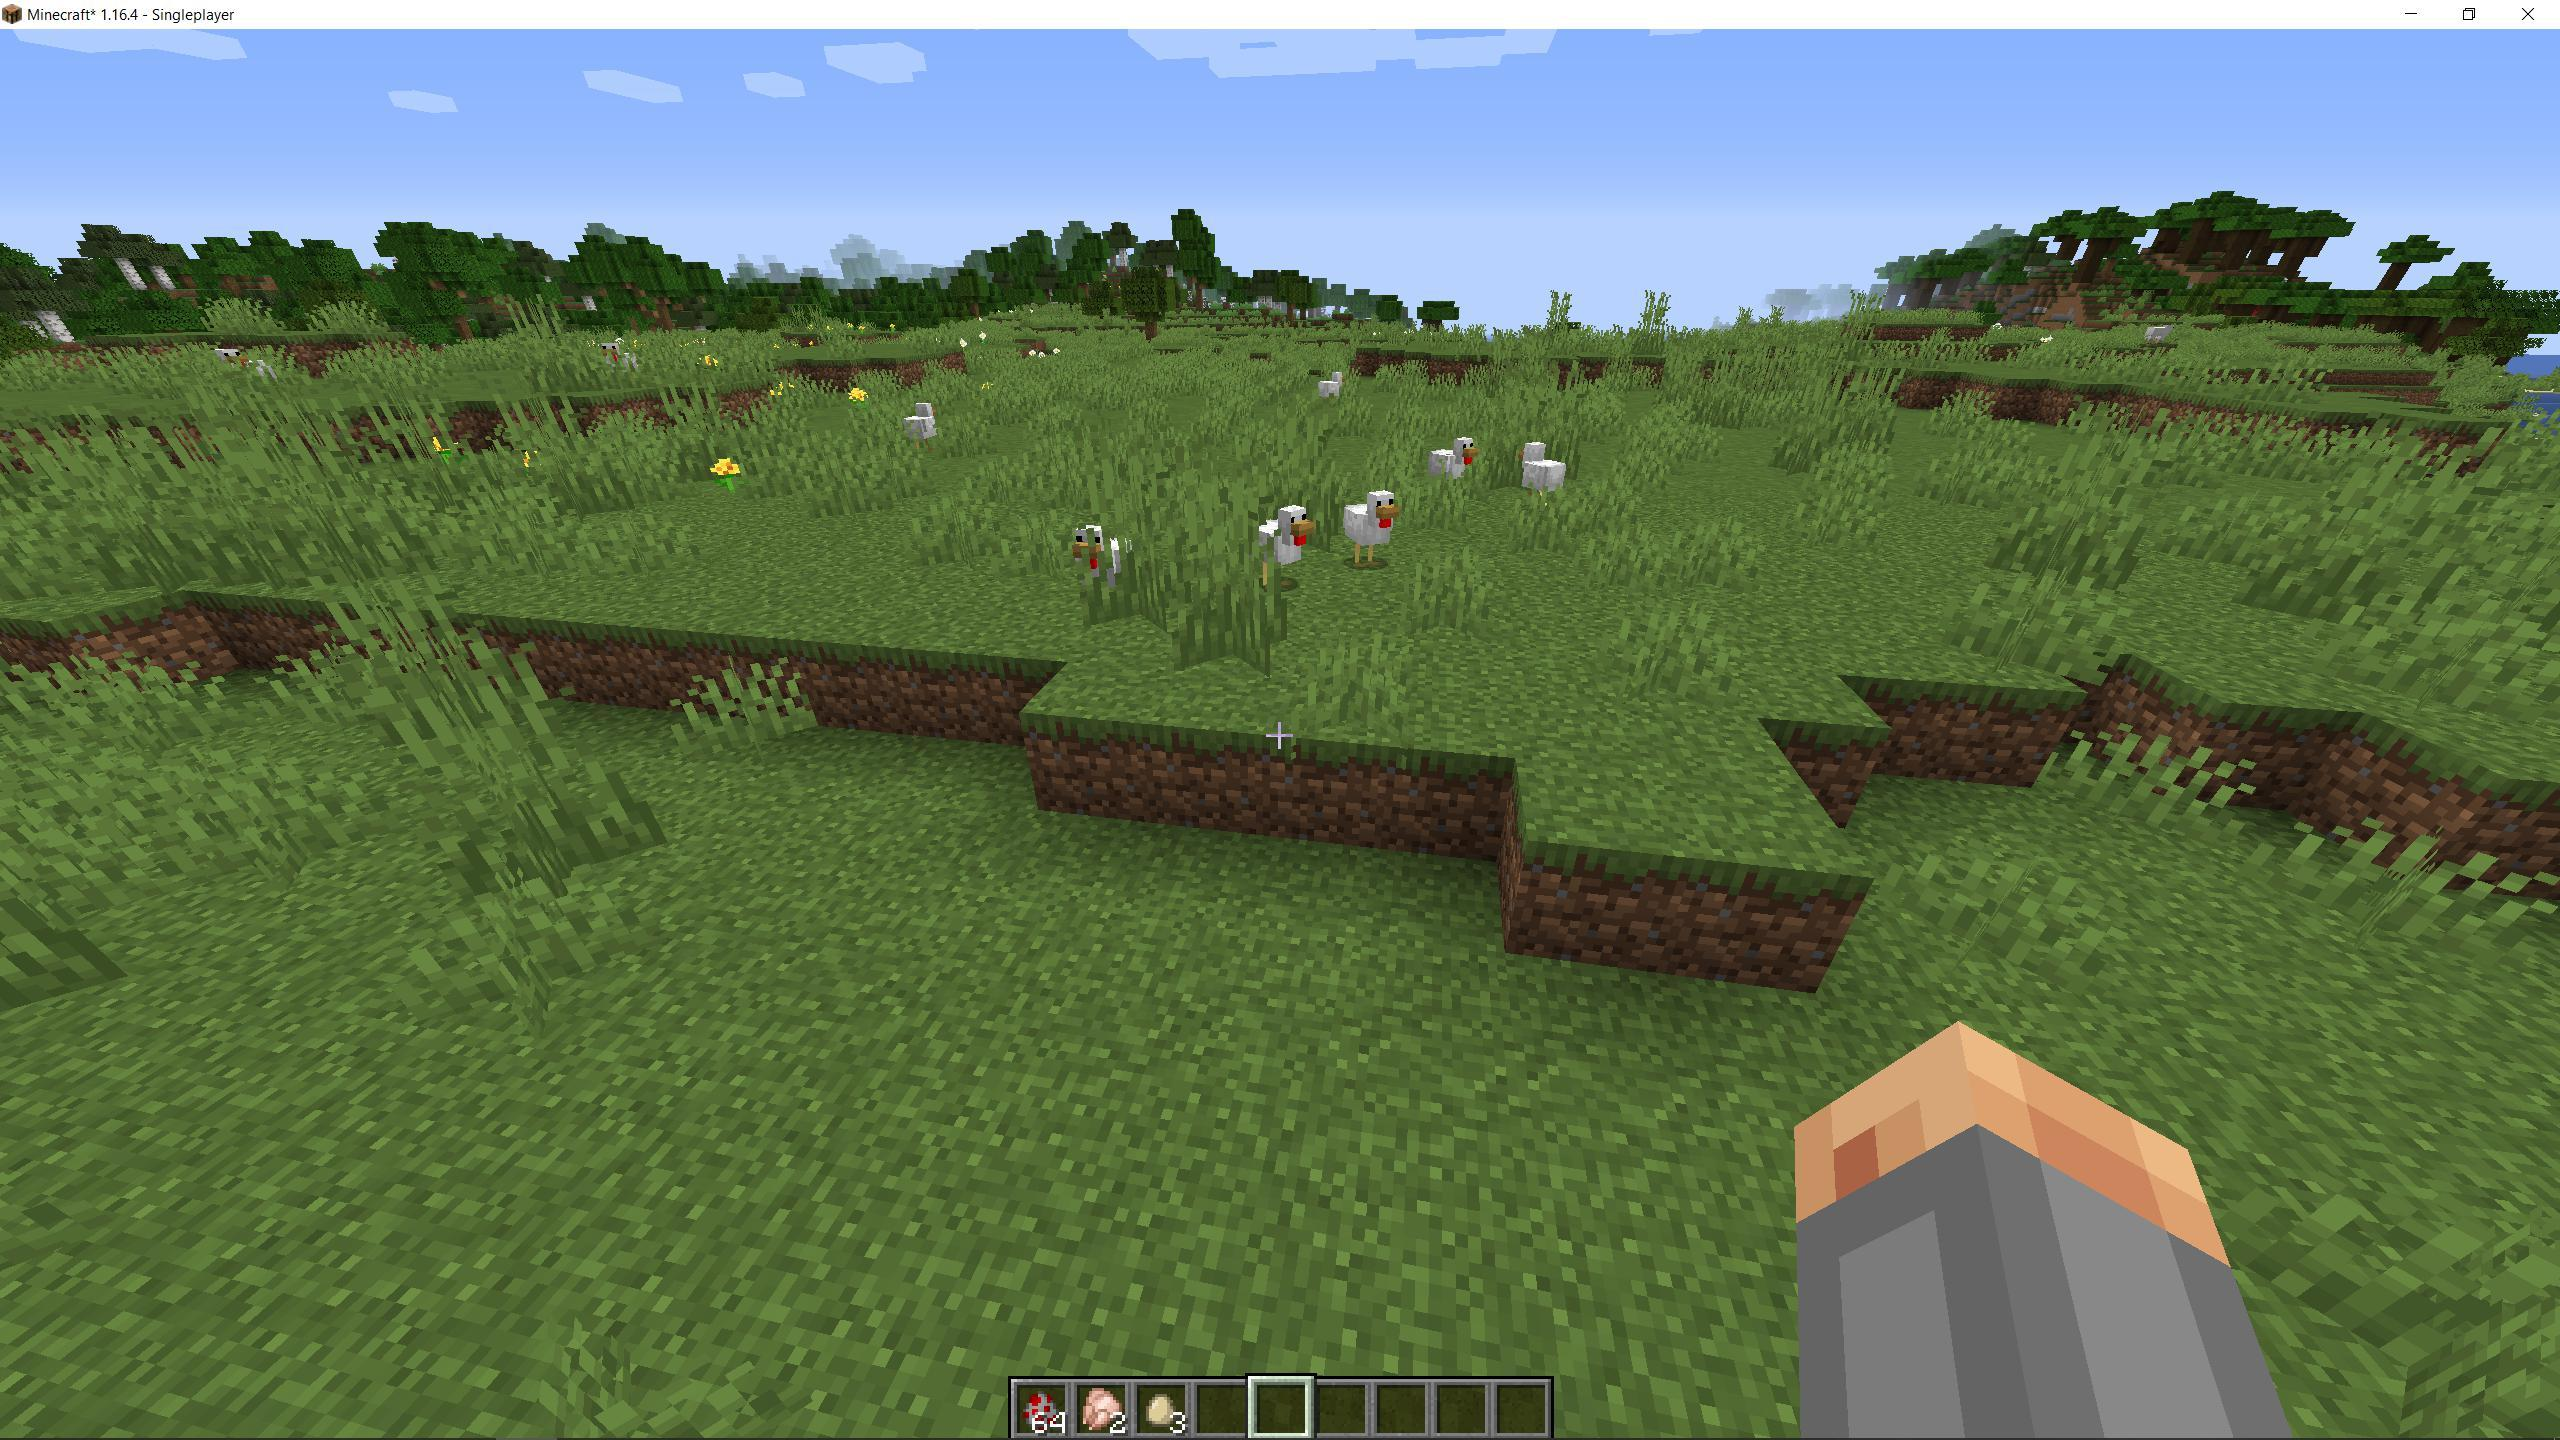chicken: (1252, 505, 1315, 594), (1343, 485, 1401, 578), (1516, 438, 1572, 513), (1422, 438, 1480, 505)
